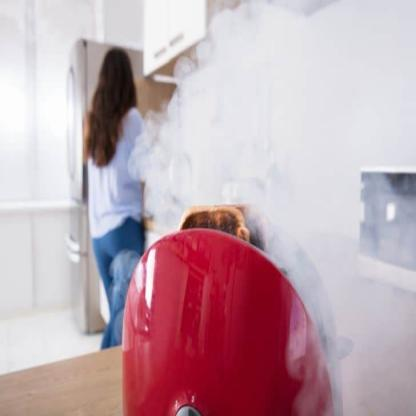smoke: (128, 1, 414, 416)
